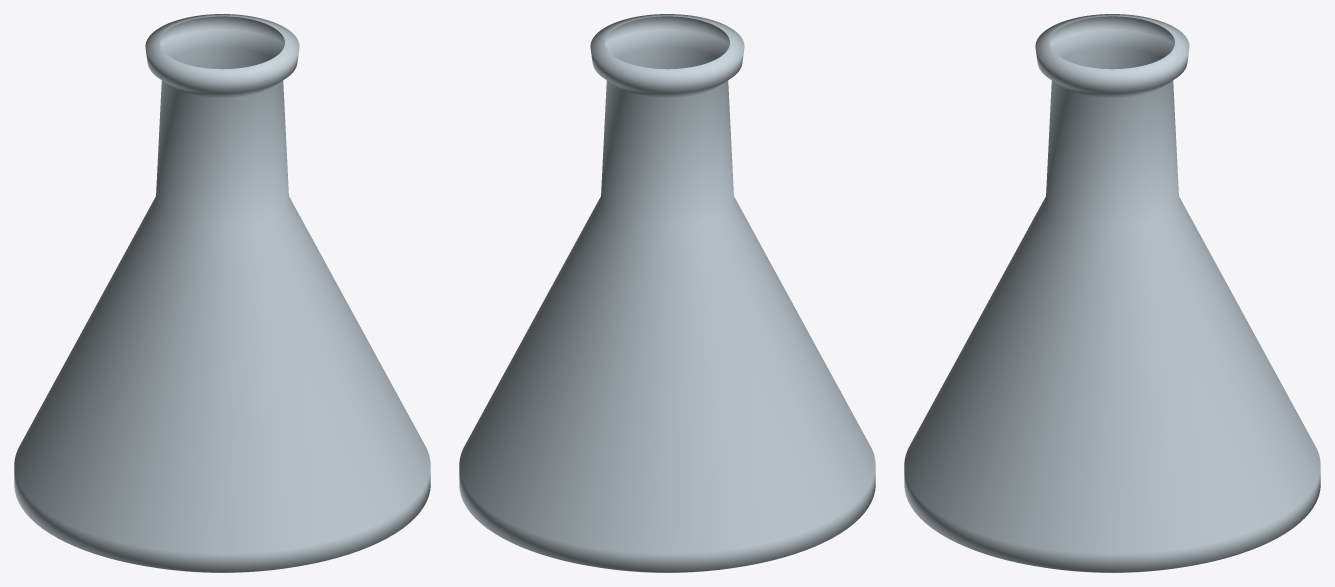
The model's file is flask.glb.
3 views of the same model, side by side, from view 1: azimuth 30°, elevation 25°; view 2: azimuth 150°, elevation 25°; view 3: azimuth 270°, elevation 25° (orthographic).
Parts seen in each view (by area): view 1: glass; view 2: glass; view 3: glass.
Boxes of the visible parts, left/top/right/bottom form: glass: left=14, top=14, right=430, bottom=572; glass: left=459, top=14, right=875, bottom=572; glass: left=904, top=14, right=1320, bottom=572.
Bounding box in the file's own units: 2 × 2.38 × 2.
